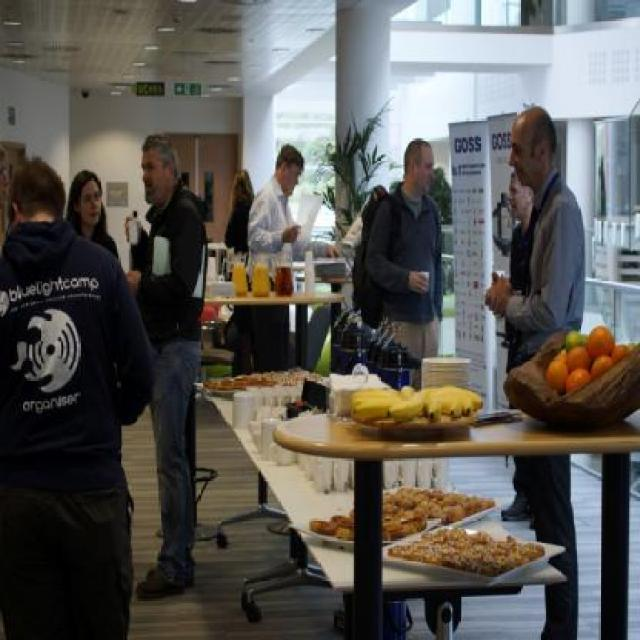Orange: (546, 321, 634, 396)
